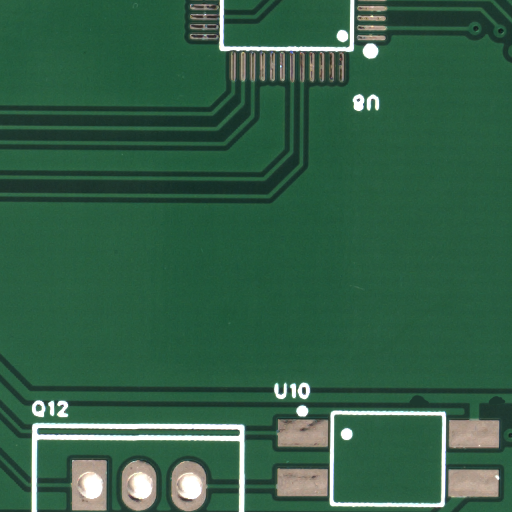Mouse_bite: (419, 400, 440, 411), (495, 399, 512, 409)
